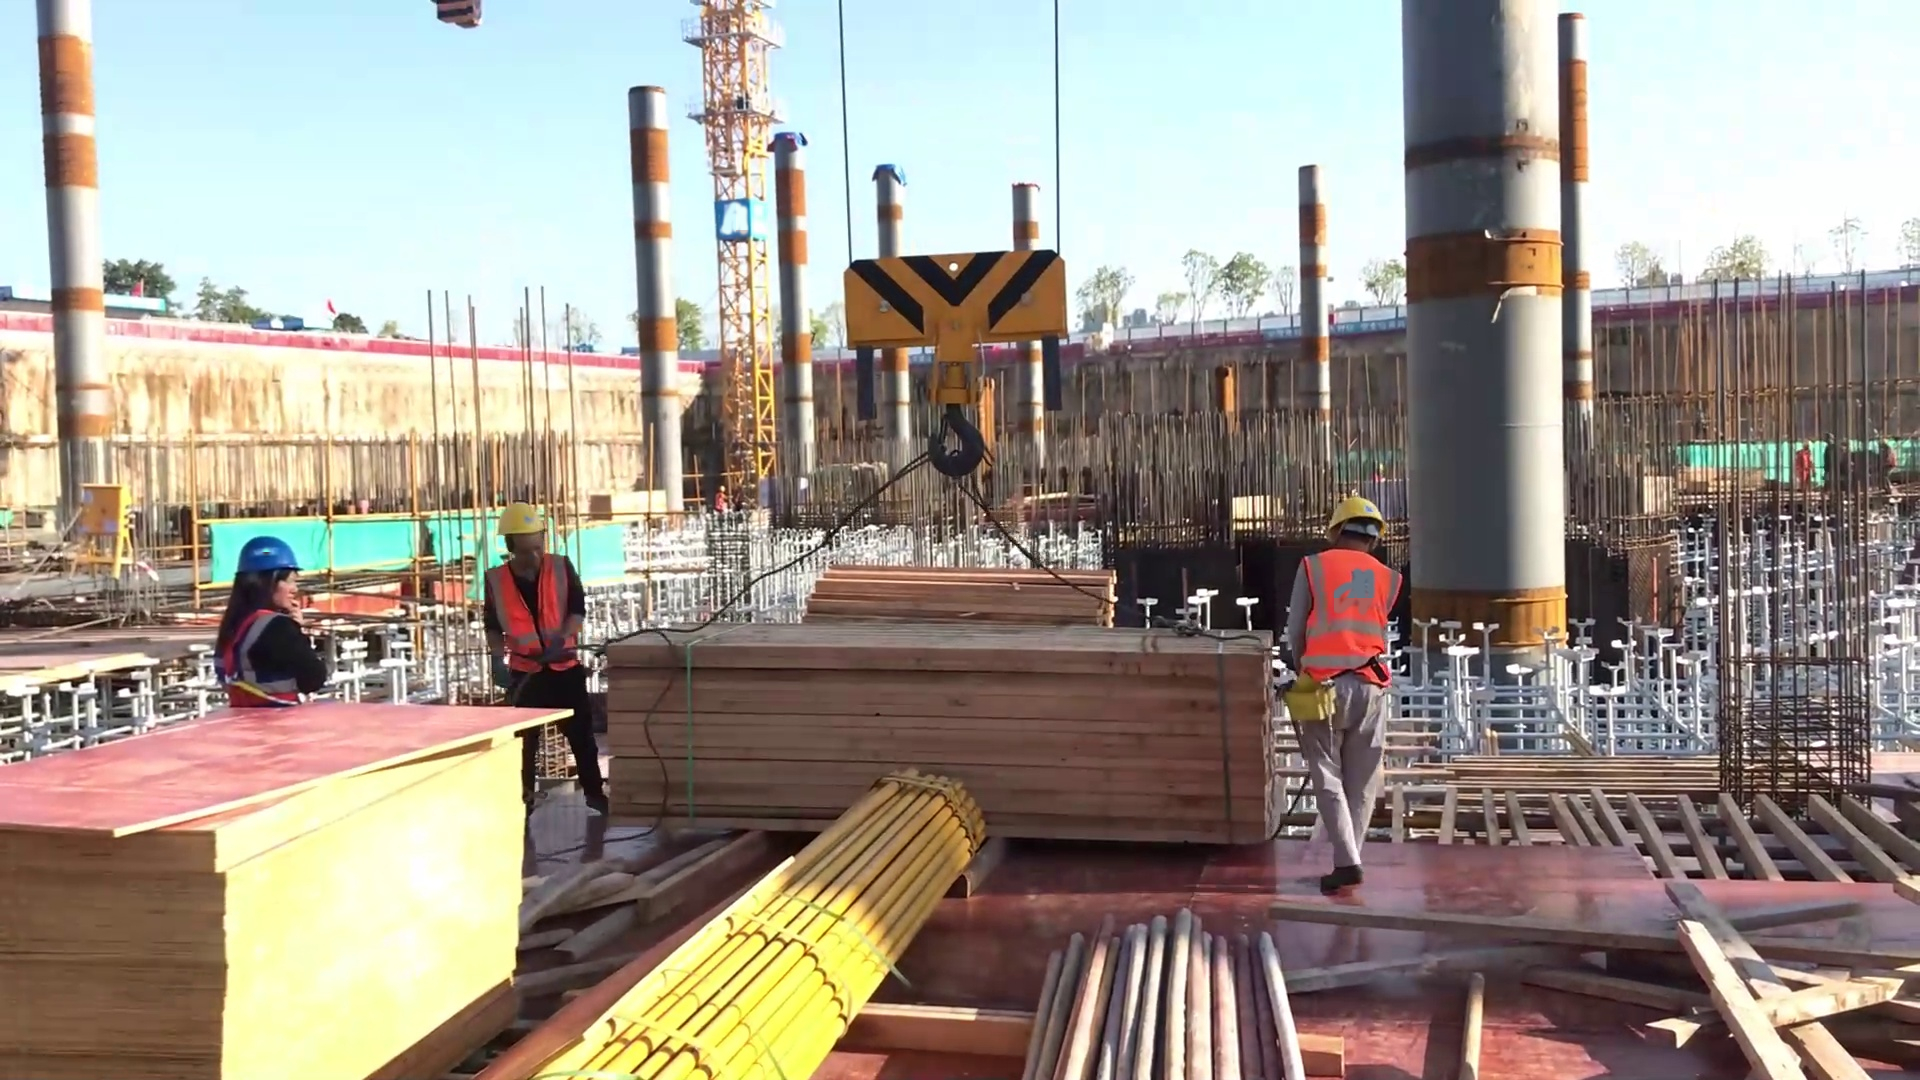board: (3, 691, 600, 1080)
ebox: (61, 479, 139, 574)
helmet: (1311, 487, 1405, 545), (479, 491, 562, 546), (229, 535, 315, 587)
hook: (823, 229, 1074, 468)
person: (1271, 487, 1417, 899), (465, 491, 609, 845), (212, 530, 354, 711)
rebar: (1008, 900, 1322, 1080)
vest: (1298, 542, 1392, 695), (197, 589, 316, 707), (475, 551, 585, 672)
wood: (599, 616, 1317, 856)
